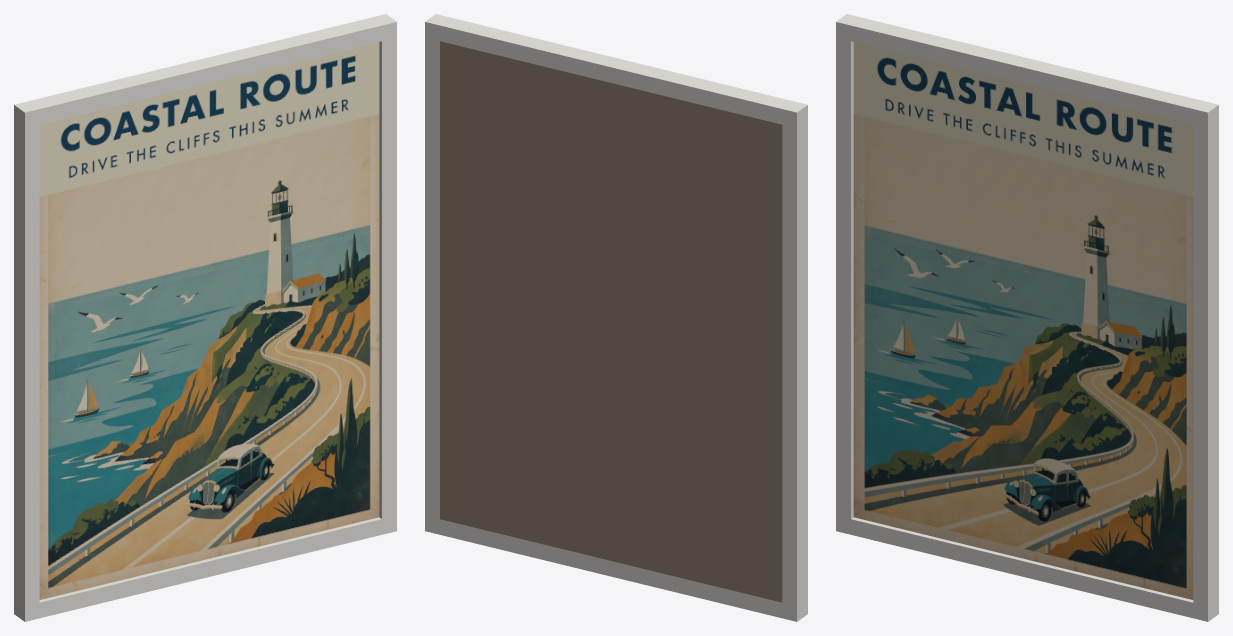
Rendered from poster-coastal-route.glb.
3 renders of one model, left to right at view 1: azimuth 30°, elevation 25°; view 2: azimuth 150°, elevation 25°; view 3: azimuth 330°, elevation 25°, orthographic.
Parts seen in each view (by area): view 1: poster-coastal-route; view 2: poster-coastal-route; view 3: poster-coastal-route.
Part boxes in pixels (x1=…): poster-coastal-route: x1=14, y1=14, x2=396, y2=621; poster-coastal-route: x1=425, y1=14, x2=807, y2=621; poster-coastal-route: x1=836, y1=14, x2=1218, y2=621.
Bounding box in the file's own units: 0.497 × 0.65 × 0.025.
3 materials, 1 textured.
